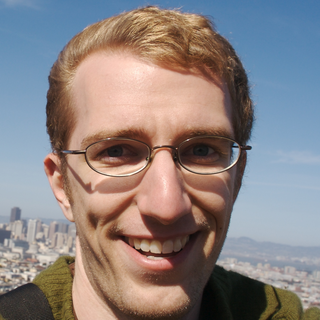eye: (88, 140, 145, 167), (178, 141, 222, 166)
